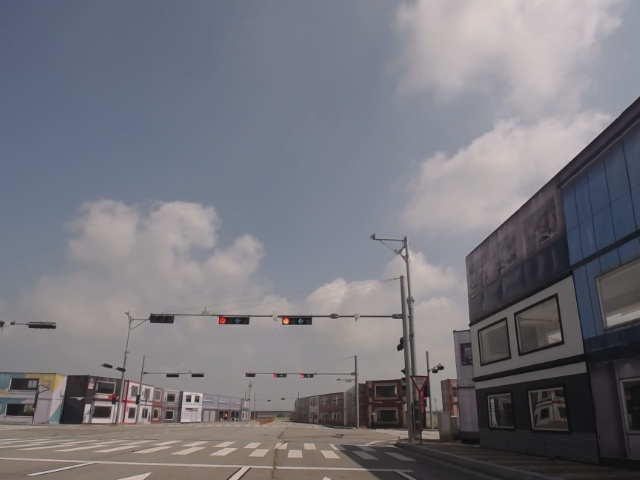left_green_4: (218, 317, 250, 325)
